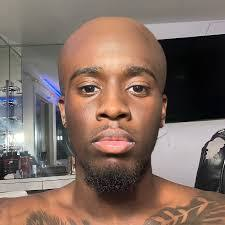kai-cenat: (59, 17, 167, 191)
